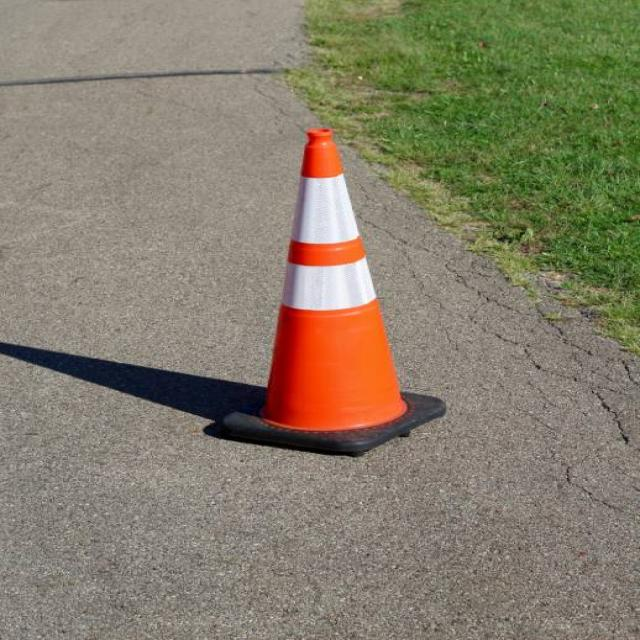Traffic Cone: (195, 87, 468, 481)
